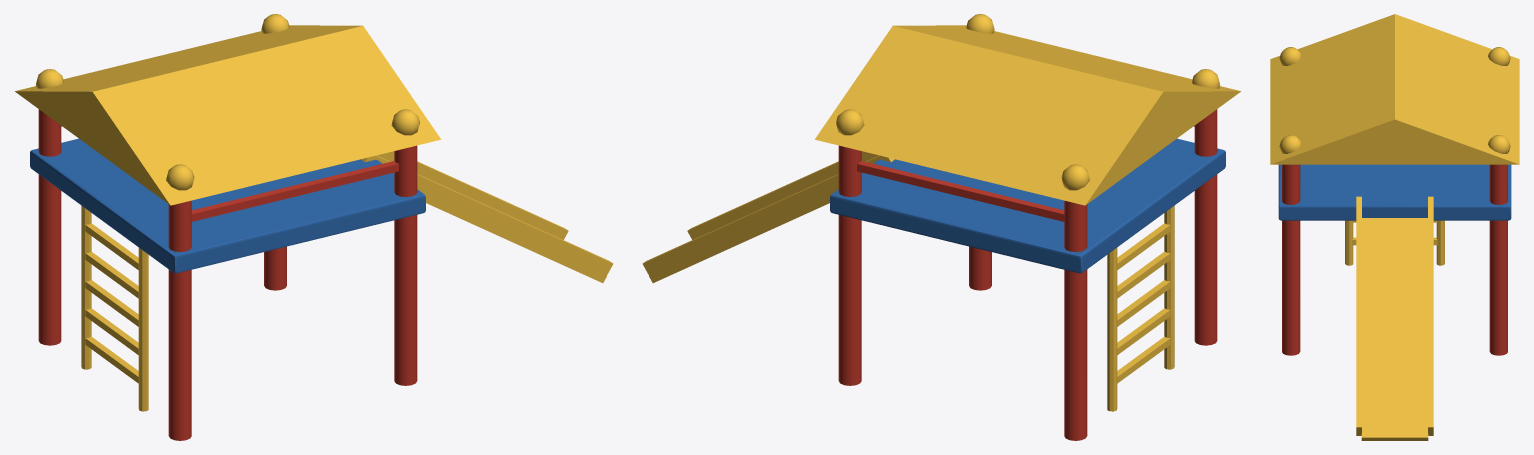
File: climbing-frame.glb
3 renders of one model, left to right at view 1: azimuth 30°, elevation 25°; view 2: azimuth 150°, elevation 25°; view 3: azimuth 270°, elevation 25°, orthographic. The views are drawn at different scales.
Parts seen in each view (by area): view 1: part-frame-yellow, part-deck-blue, part-frame-red; view 2: part-frame-yellow, part-deck-blue, part-frame-red; view 3: part-frame-yellow, part-deck-blue, part-frame-red.
Boxes of the visible parts, bbox=[...] form: part-frame-yellow: bbox=[15, 14, 613, 411]; part-deck-blue: bbox=[30, 138, 425, 273]; part-frame-red: bbox=[38, 109, 417, 440]; part-frame-yellow: bbox=[642, 14, 1240, 411]; part-deck-blue: bbox=[830, 138, 1225, 273]; part-frame-red: bbox=[838, 109, 1217, 440]; part-frame-yellow: bbox=[1270, 14, 1519, 440]; part-deck-blue: bbox=[1278, 164, 1511, 220]; part-frame-red: bbox=[1282, 164, 1507, 355].
Bounding box in the file's own units: 110 × 64 × 60.
